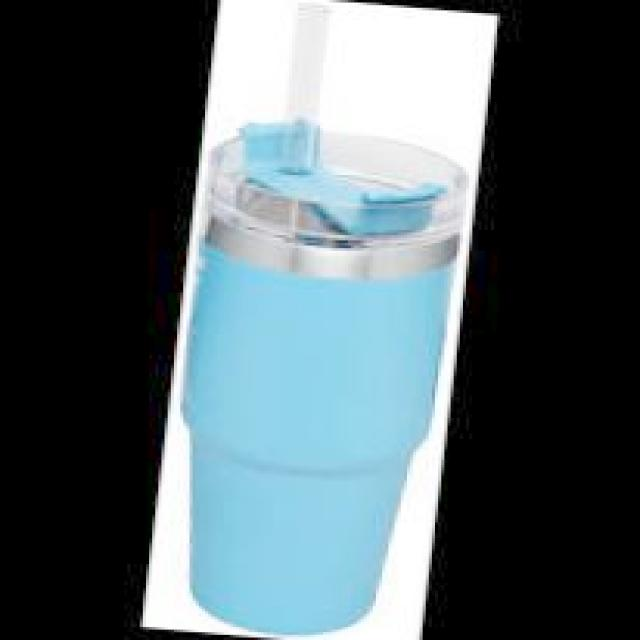bottle: (149, 0, 491, 640)
